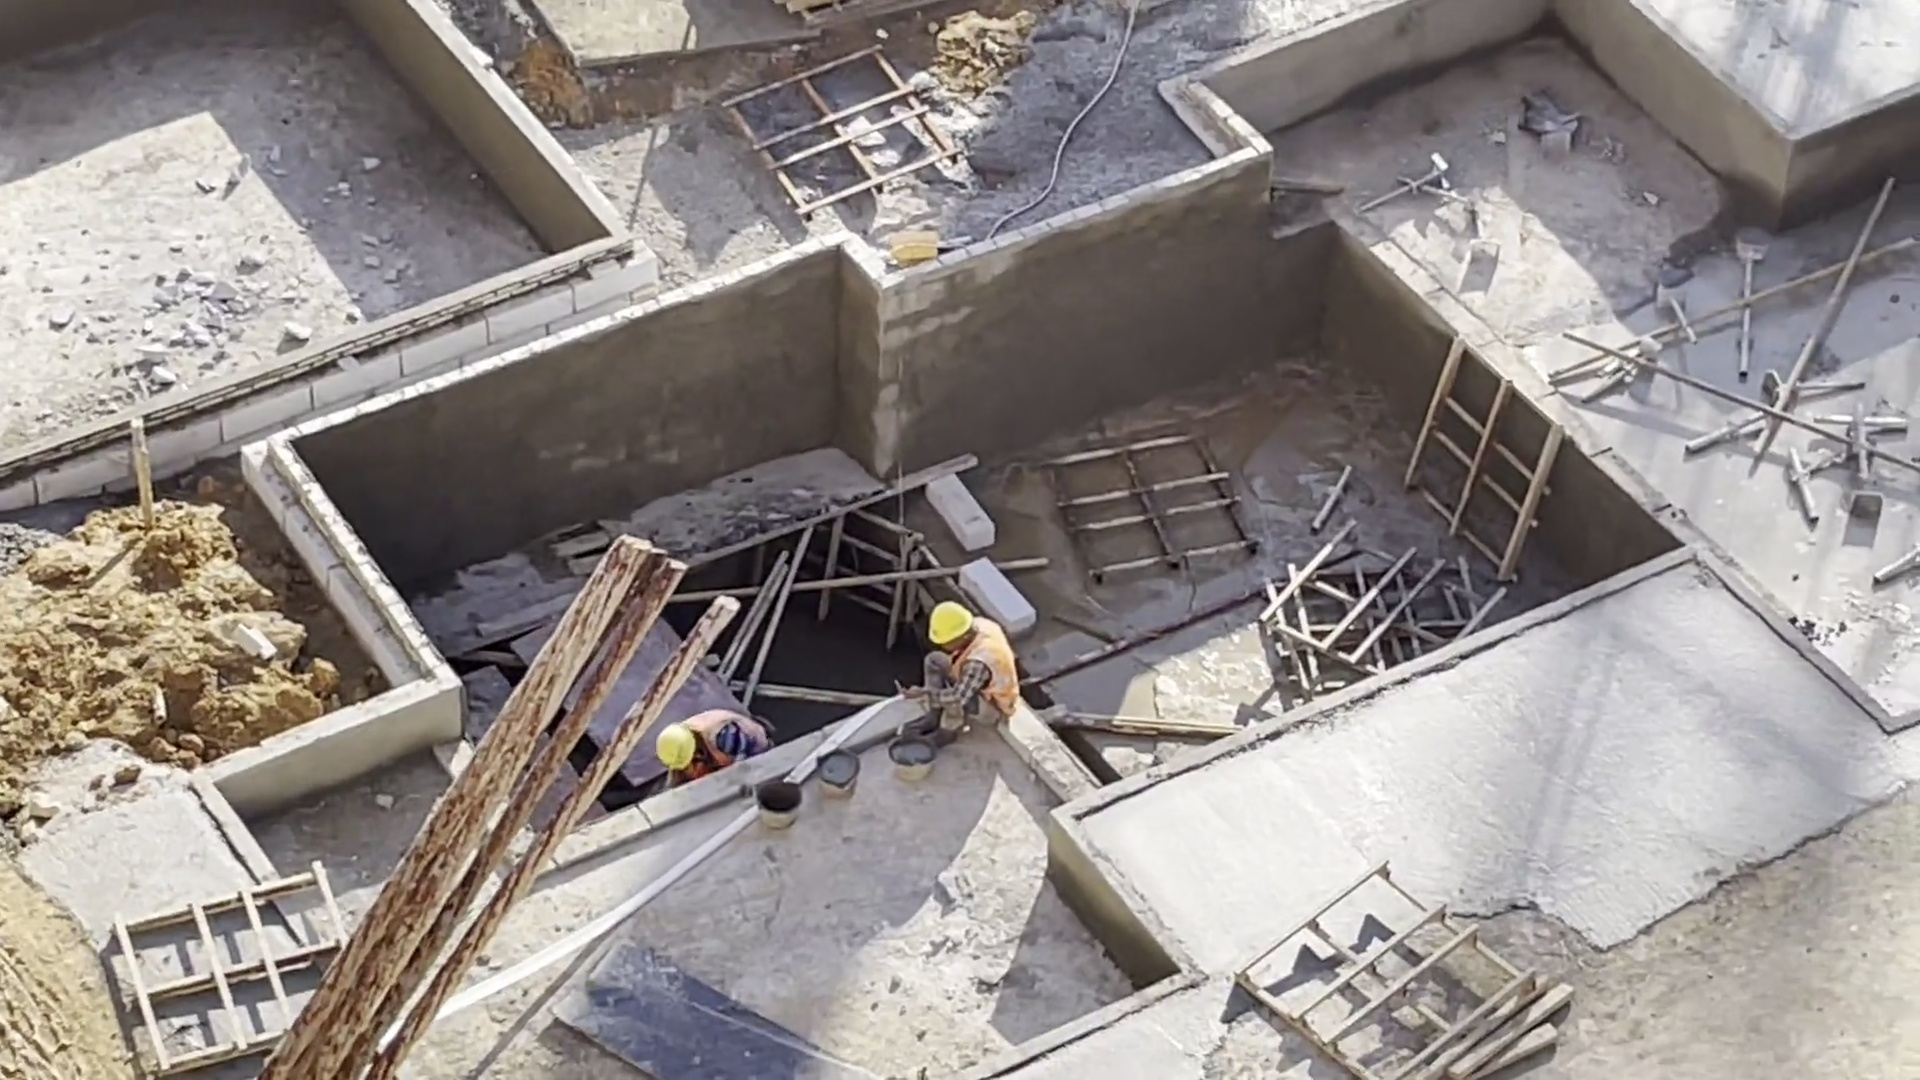helmet: (649, 718, 702, 775), (924, 600, 971, 646)
person: (908, 586, 1034, 758), (632, 711, 792, 794)
vest: (948, 620, 1024, 713)
